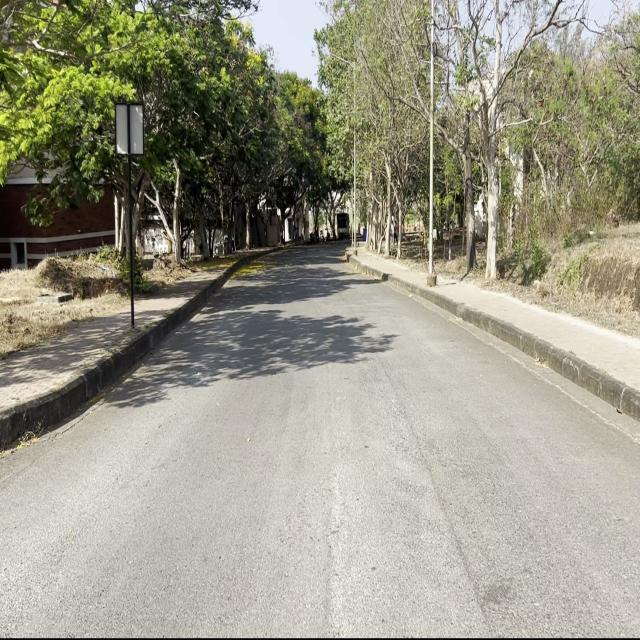Road: (3, 242, 635, 633)
